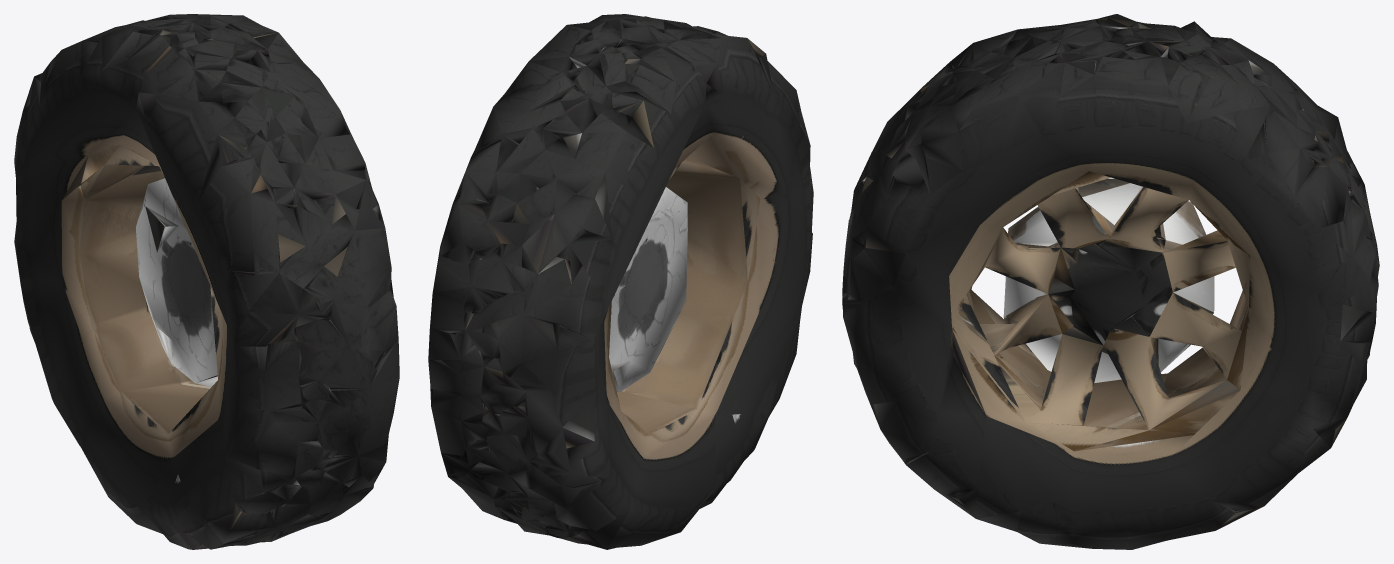
Rendered from offroad_wheel.obj.
3 views of the same model, side by side, from view 1: azimuth 30°, elevation 25°; view 2: azimuth 150°, elevation 25°; view 3: azimuth 270°, elevation 25° (orthographic).
Visible parts, largest first — view 1: wheel; view 2: wheel; view 3: wheel.
Boxes of the visible parts, x1=… form: wheel: x1=14, y1=14, x2=399, y2=549; wheel: x1=428, y1=14, x2=813, y2=549; wheel: x1=842, y1=14, x2=1379, y2=549.
Size of the model in its own units: 0.2469 by 0.7 by 0.6969.
